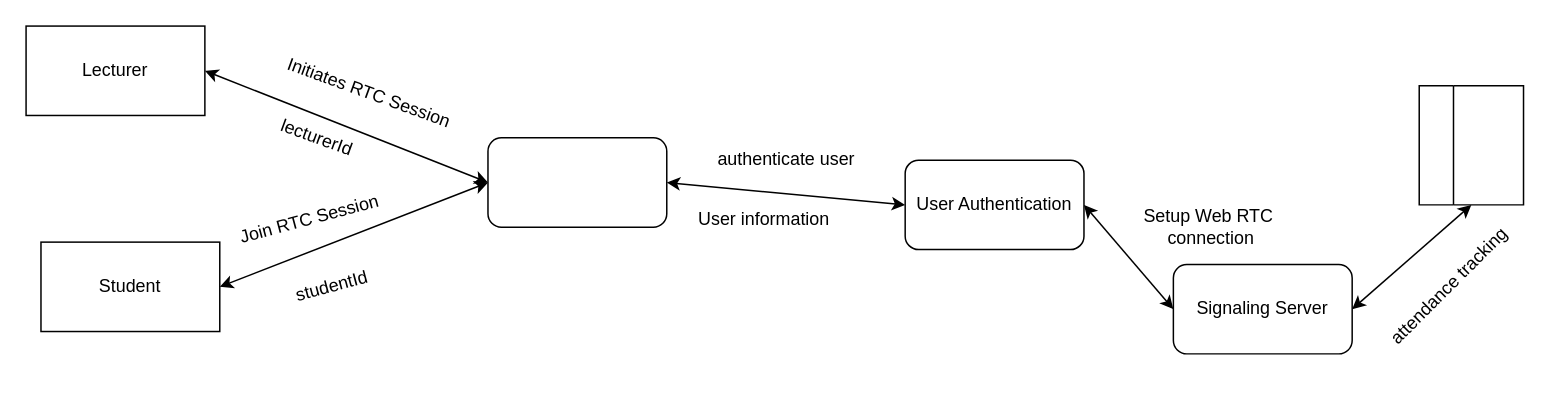
Image size: 1560x398. Some labels were removed from this diagram. The box of each missing label's shape, as (x1, y1, x2, y2) in pixels:
Data: (1418, 84, 1524, 205)
RTC API: (486, 136, 667, 227)
